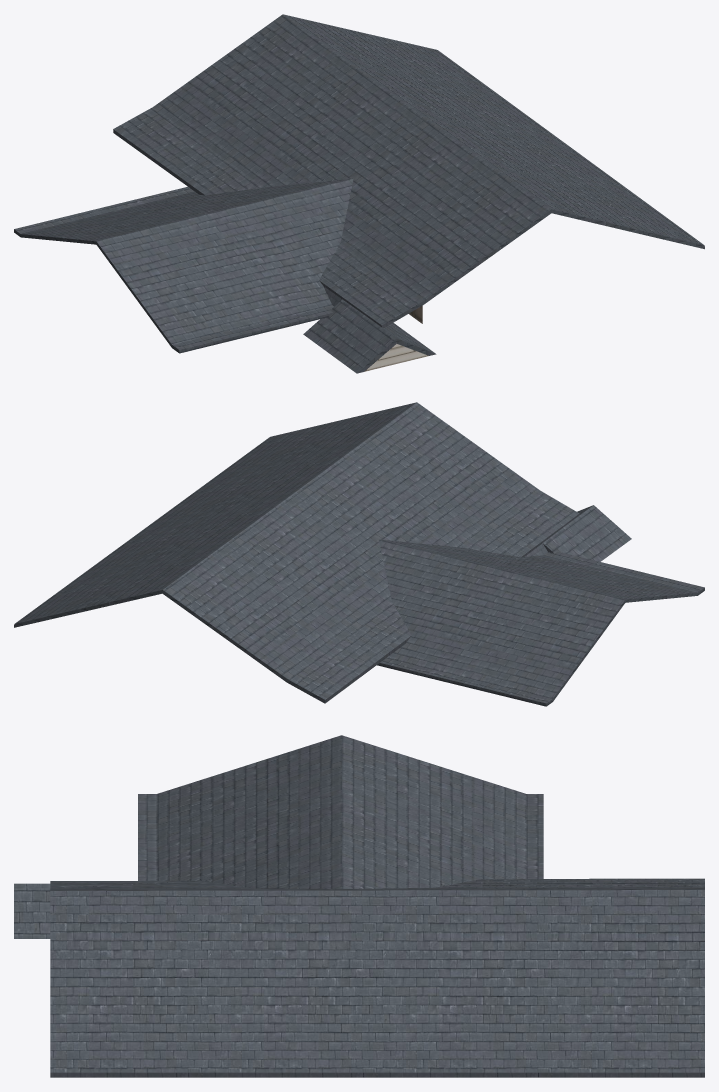
The model's file is House_Demo_001-col.glb.
3 renders of one model, top to bottom at view 1: azimuth 30°, elevation 25°; view 2: azimuth 150°, elevation 25°; view 3: azimuth 270°, elevation 25°, orthographic. The views are drawn at different scales.
Visible parts, largest first — view 1: House_Demo_001-col; view 2: House_Demo_001-col; view 3: House_Demo_001-col.
Boxes of the visible parts, x1=… form: House_Demo_001-col: x1=14, y1=14, x2=704, y2=373; House_Demo_001-col: x1=14, y1=402, x2=704, y2=706; House_Demo_001-col: x1=14, y1=735, x2=704, y2=1077.
Size of the model in its own units: 12.47 by 2.49 by 12.43.
3 materials, 3 textured.
